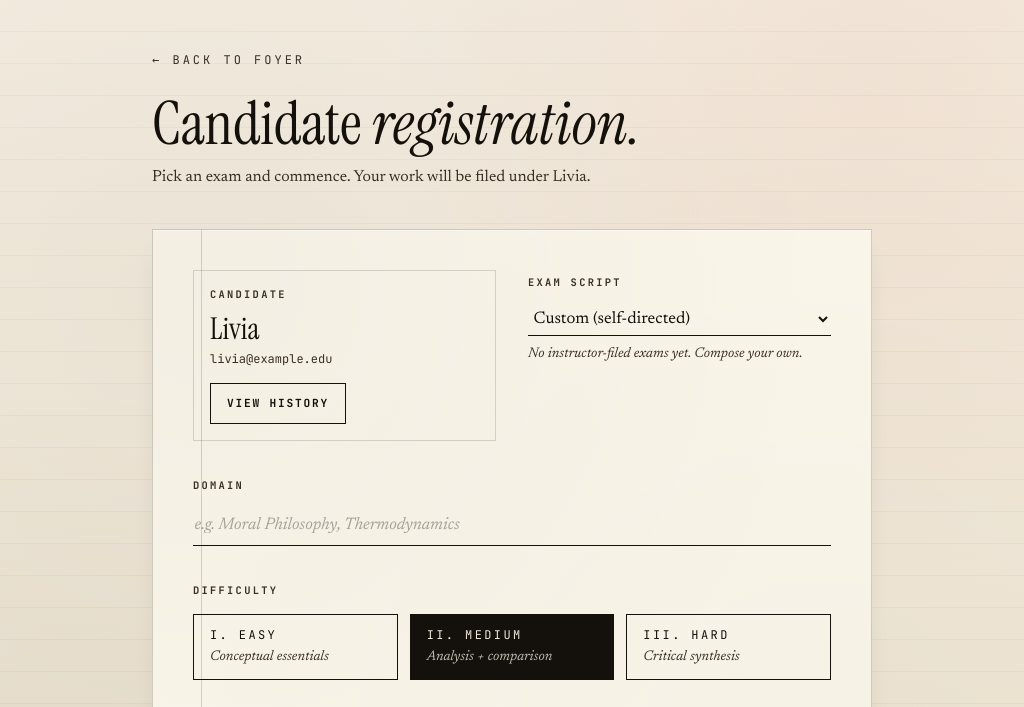
Scenario: App › shows an error message when start-exam fails
The image size is (1024, 707).
Expected: the text "Pick an exam and commence" is shown, top-left (152, 169), bottom-right (552, 185)
Type "Math" into the field labelled "Domain" at (512, 526), box top-left (193, 505), bottom-right (831, 546)
(page scrolled)
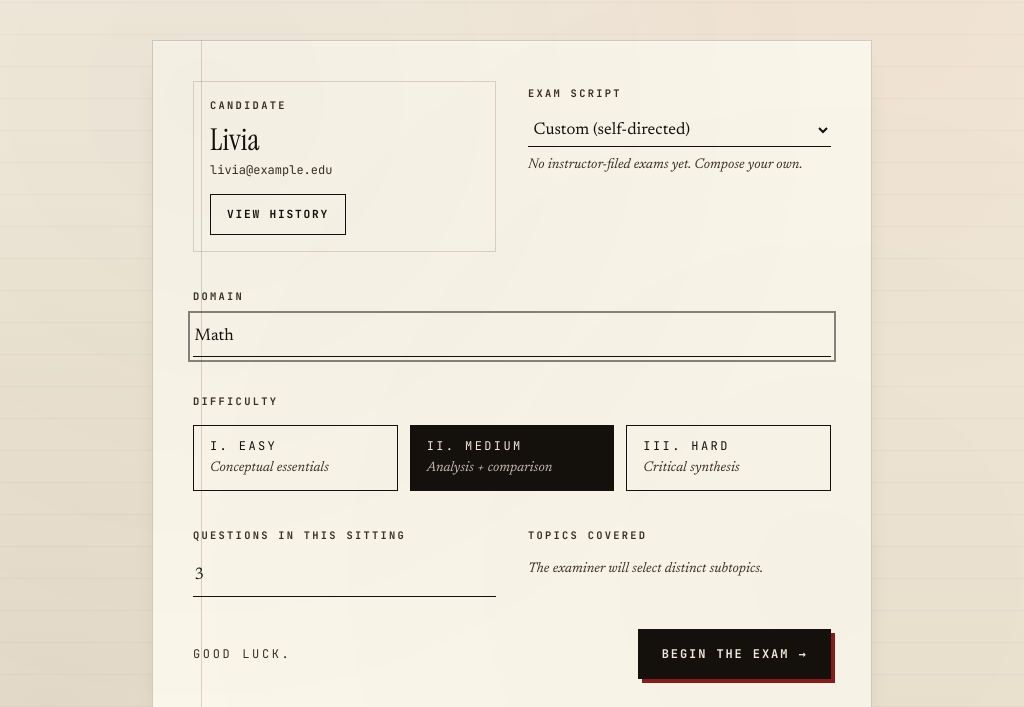
Click the button "Begin the exam →" at (735, 654), box top-left (638, 628), bottom-right (831, 679)
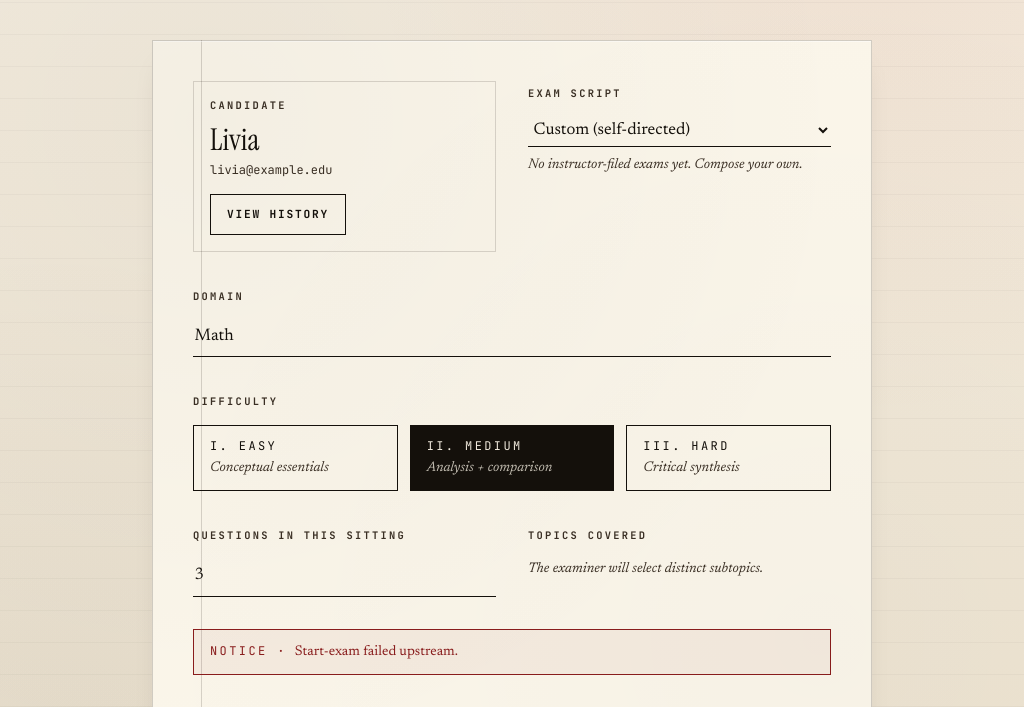
Result: the text "Notice ·Start-exam failed upstream." is shown at top-left (193, 628), bottom-right (831, 674)
